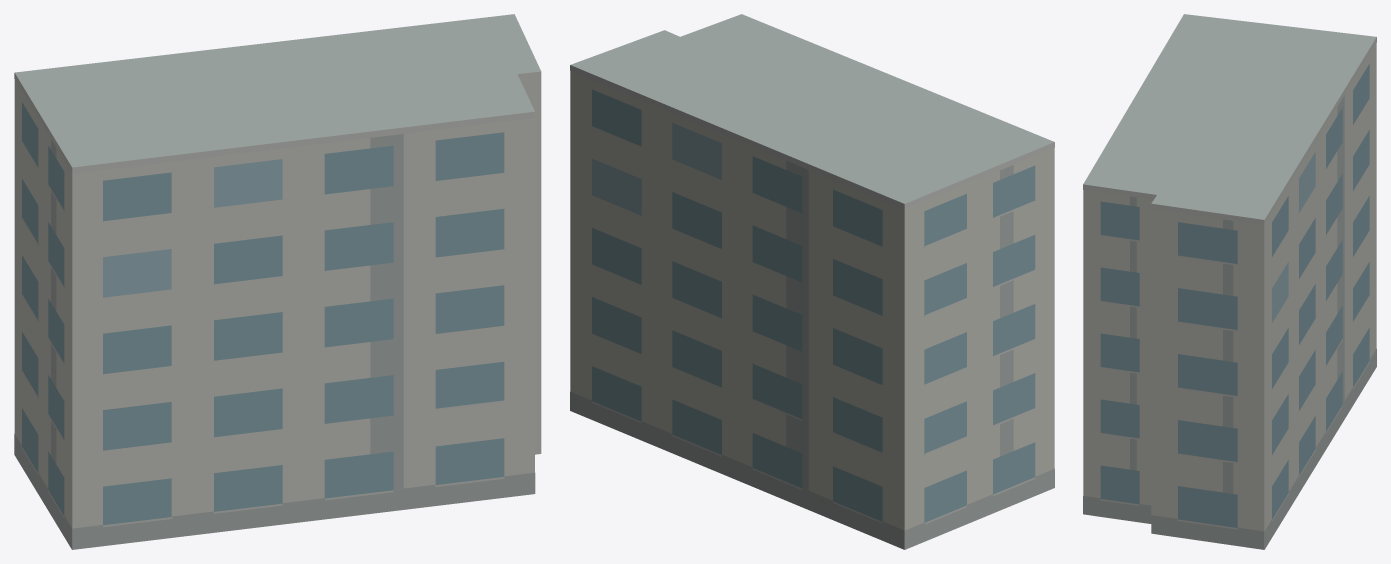
Rendered from survey-upis-32880350.glb.
3 views of the same model, side by side, from view 1: azimuth 30°, elevation 25°; view 2: azimuth 150°, elevation 25°; view 3: azimuth 270°, elevation 25° (orthographic). The views are drawn at different scales.
Parts seen in each view (by area): view 1: survey-upis-32880350.tmp; view 2: survey-upis-32880350.tmp; view 3: survey-upis-32880350.tmp.
Part boxes in pixels (bbox=[...]): survey-upis-32880350.tmp: bbox=[14, 14, 541, 549]; survey-upis-32880350.tmp: bbox=[570, 14, 1054, 549]; survey-upis-32880350.tmp: bbox=[1083, 14, 1376, 549].
Bounding box in the file's own units: 19.55 × 14.6 × 11.79.
